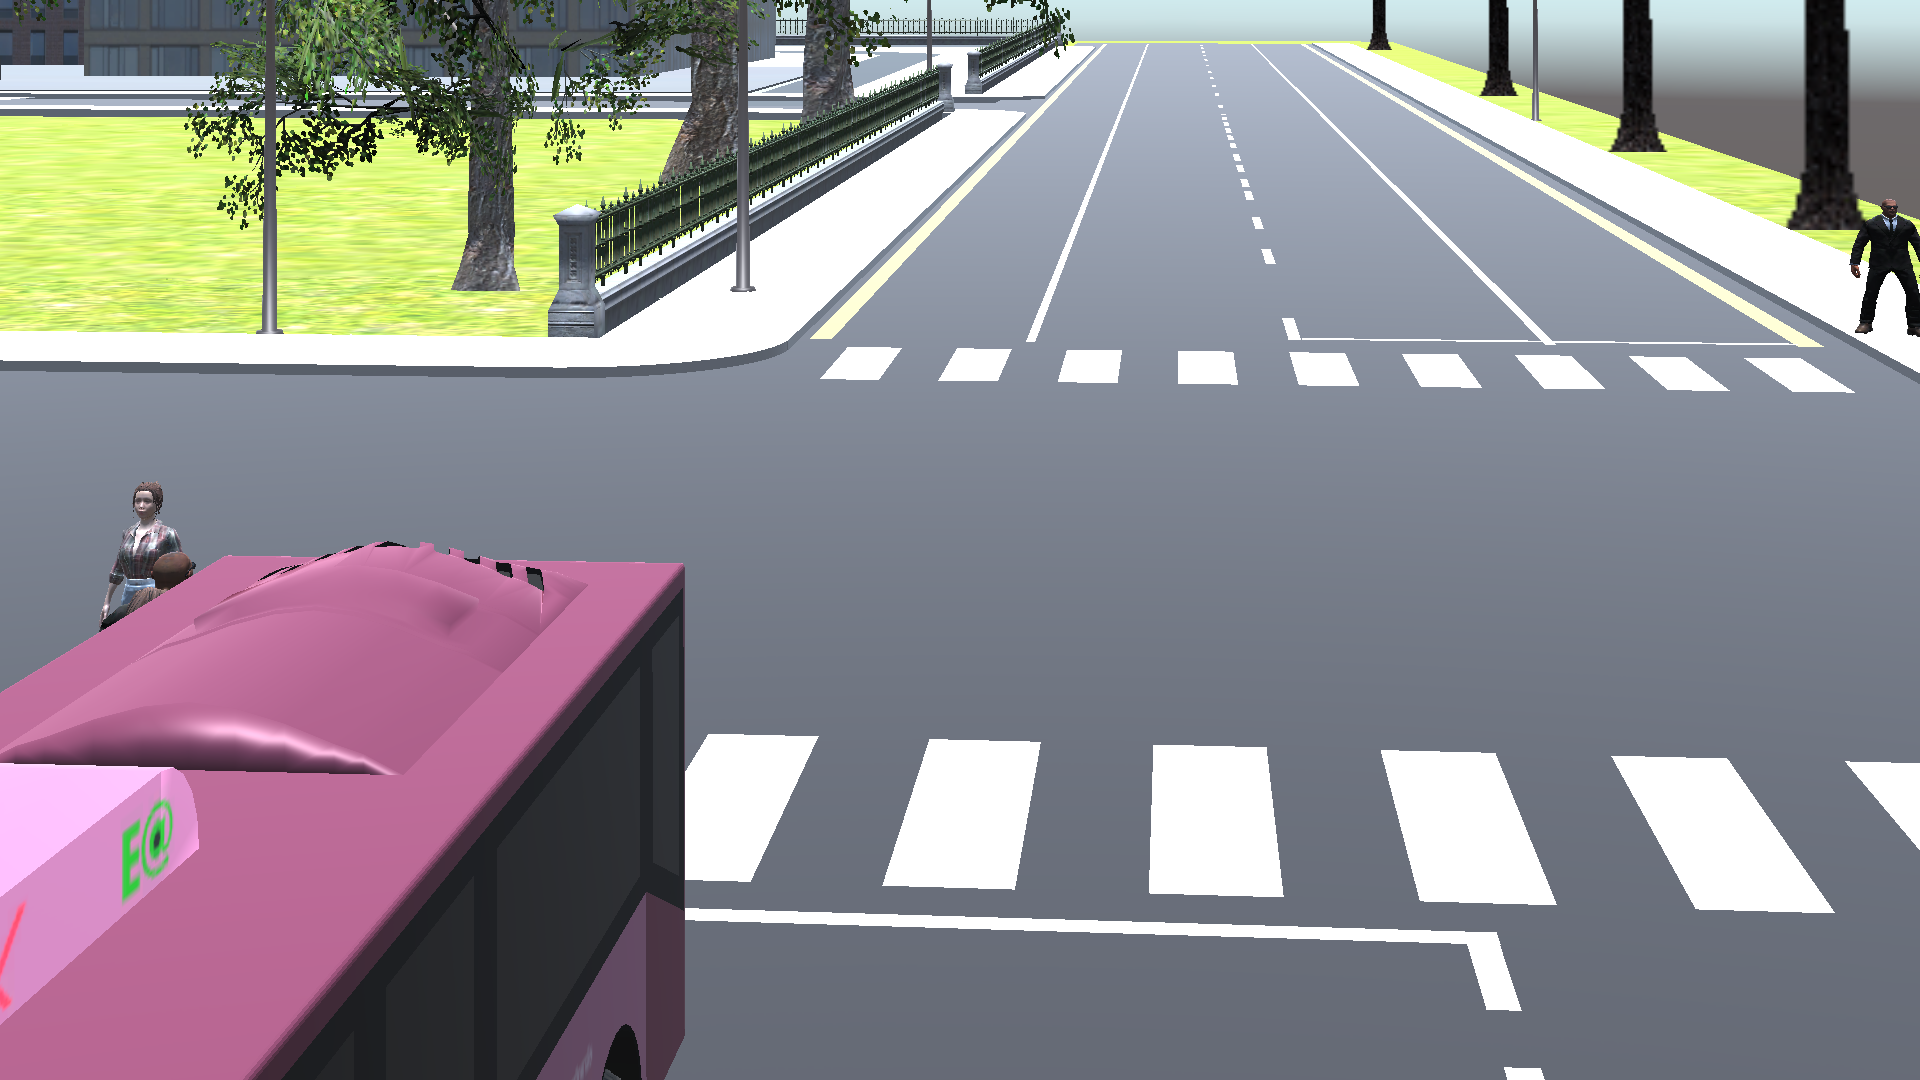pedestrian: (1835, 196, 1920, 343), (95, 553, 200, 626), (92, 470, 191, 545)
